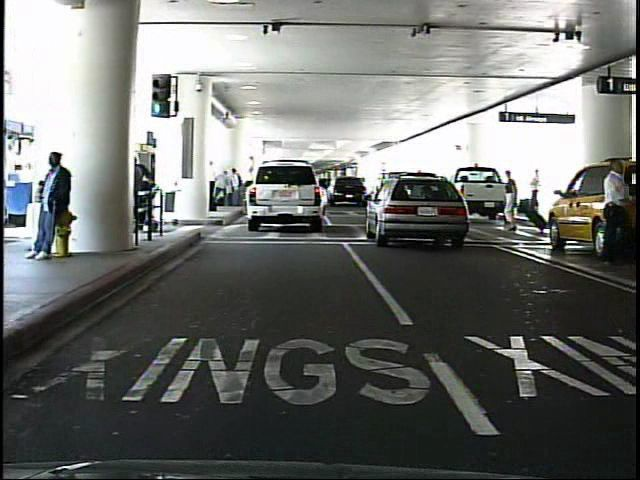person: (33, 149, 73, 262), (597, 156, 636, 265), (500, 168, 520, 232), (532, 167, 544, 215), (231, 167, 245, 208)
